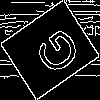G: (25, 25, 84, 84)
